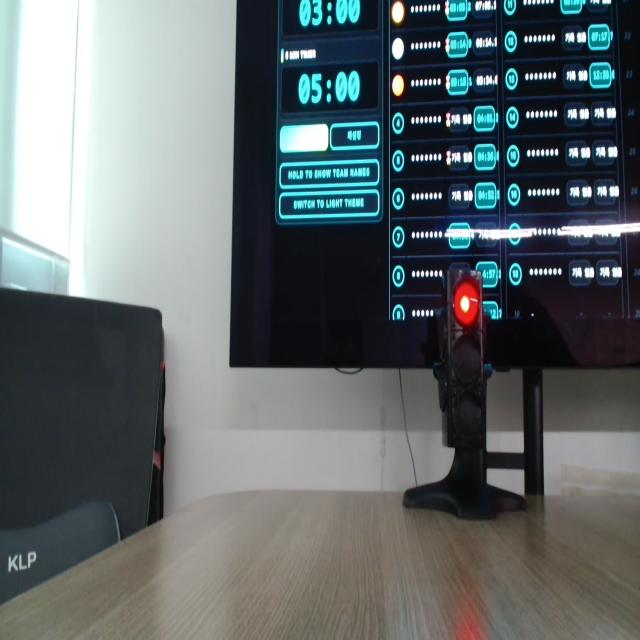red_light: (454, 279, 480, 327)
